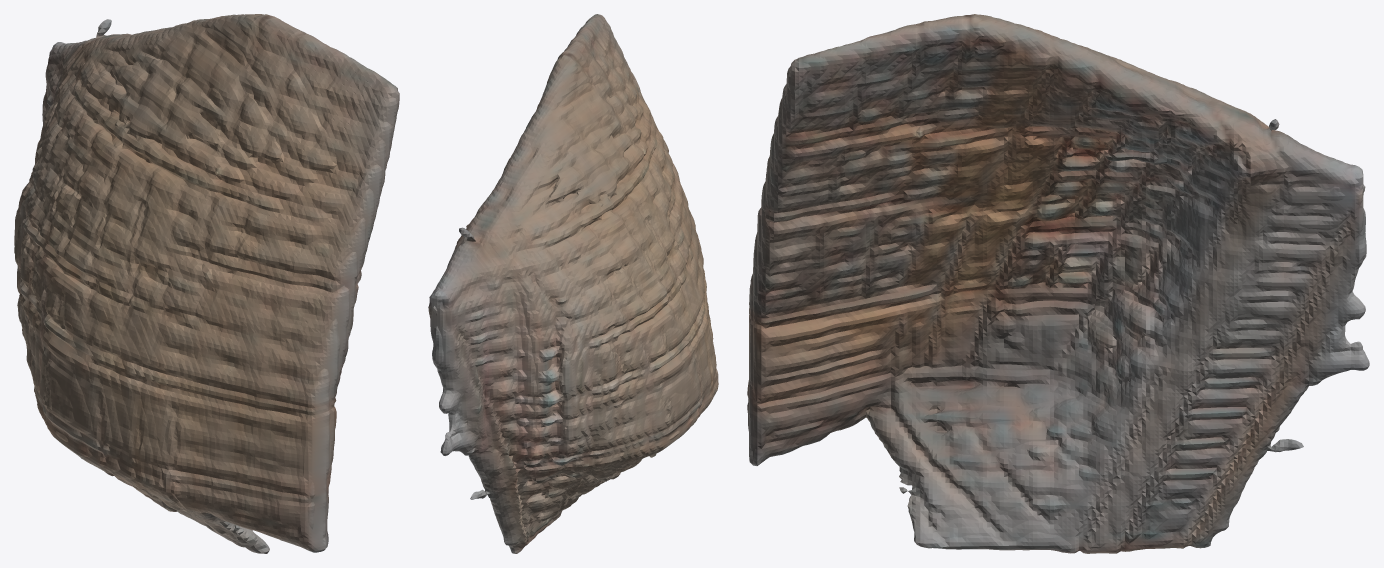
3 renders of one model, left to right at view 1: azimuth 30°, elevation 25°; view 2: azimuth 150°, elevation 25°; view 3: azimuth 270°, elevation 25°, orthographic. The views are drawn at different scales.
Parts seen in each view (by area): view 1: world; view 2: world; view 3: world.
Part boxes in pixels (x1,y1,x2,y2): world: (14,14,399,553); world: (428,14,718,553); world: (747,14,1369,553).
Size of the model in its own units: 0.4482 by 1 by 1.02.
